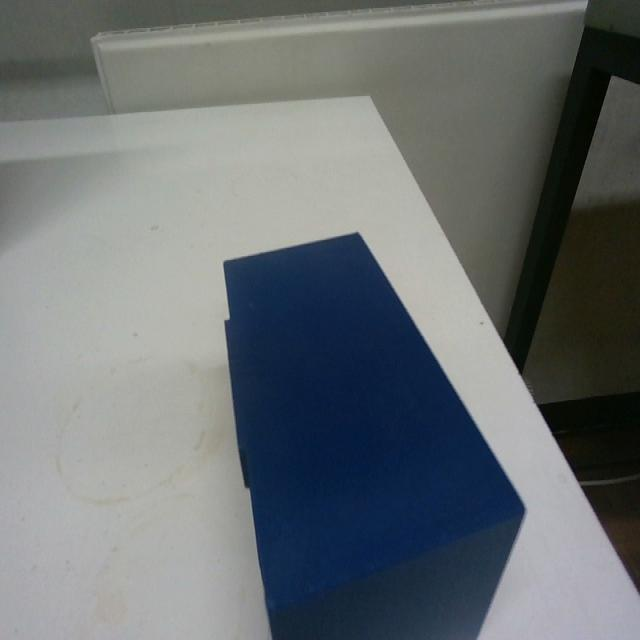Blue Cuboid: (219, 227, 527, 637)
